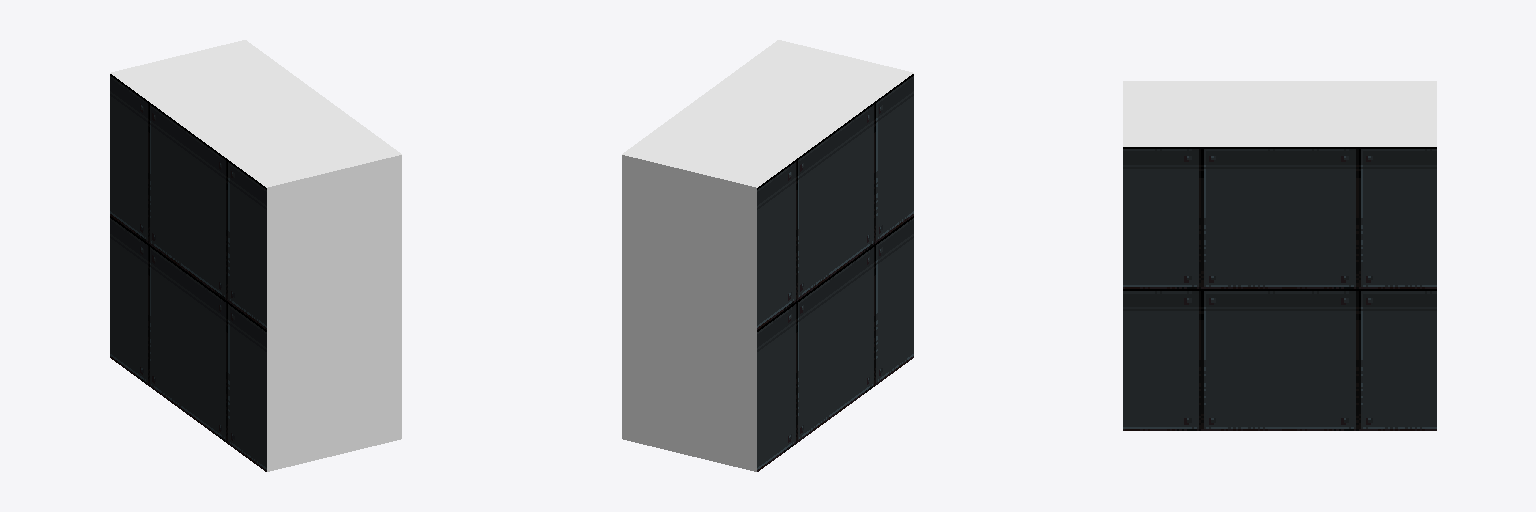
3 renders of one model, left to right at view 1: azimuth 30°, elevation 25°; view 2: azimuth 150°, elevation 25°; view 3: azimuth 270°, elevation 25°, orthographic.
Parts seen in each view (by area): view 1: WallPanelA2x2x1; view 2: WallPanelA2x2x1; view 3: WallPanelA2x2x1.
Boxes of the visible parts, x1=… form: WallPanelA2x2x1: x1=110, y1=40, x2=401, y2=471; WallPanelA2x2x1: x1=622, y1=40, x2=913, y2=471; WallPanelA2x2x1: x1=1123, y1=81, x2=1436, y2=430.
Bounding box in the file's own units: 1 × 2 × 2.
2 materials, 1 textured.